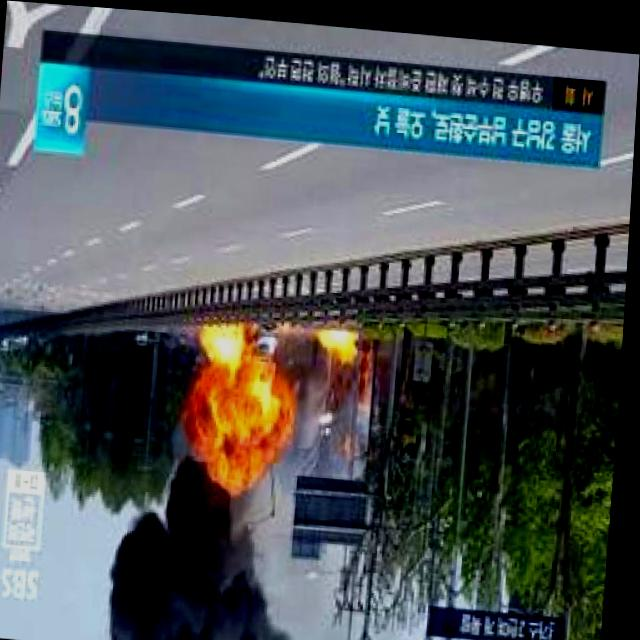Fire: (190, 358, 297, 442), (209, 436, 274, 482), (195, 319, 255, 358), (314, 321, 358, 356)
Smoke: (105, 467, 315, 640)
